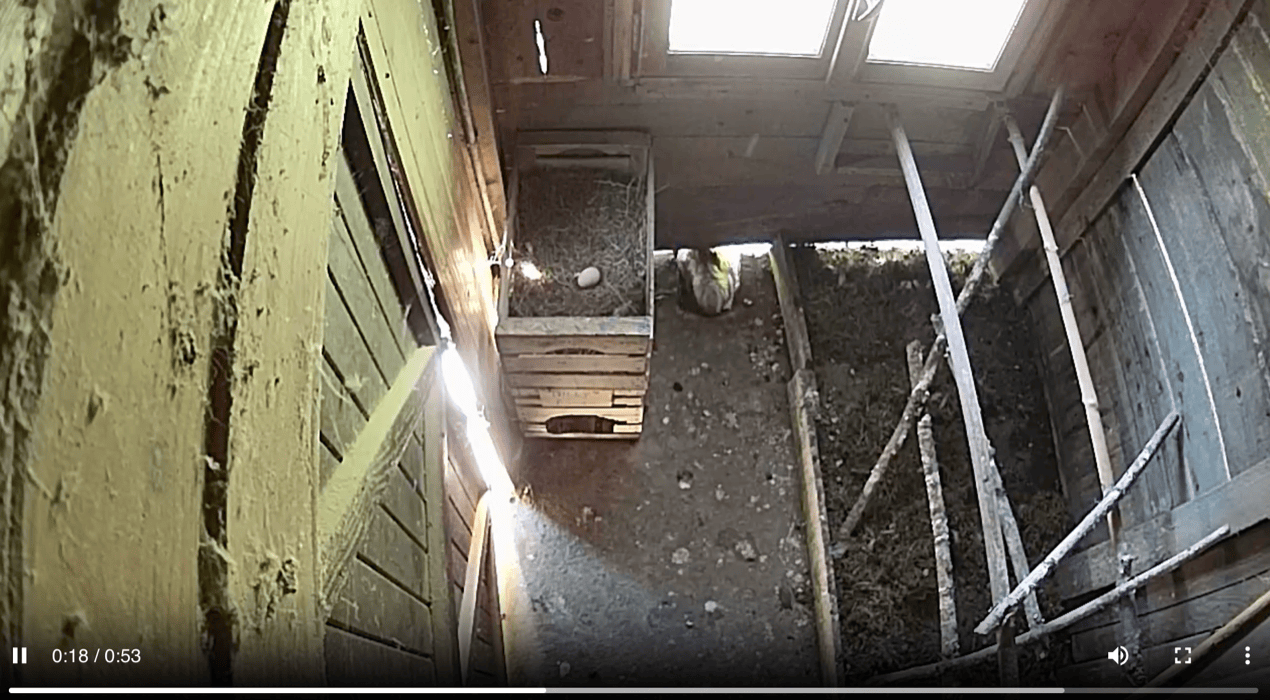chicken: (664, 230, 744, 319)
egg: (574, 262, 602, 293)
